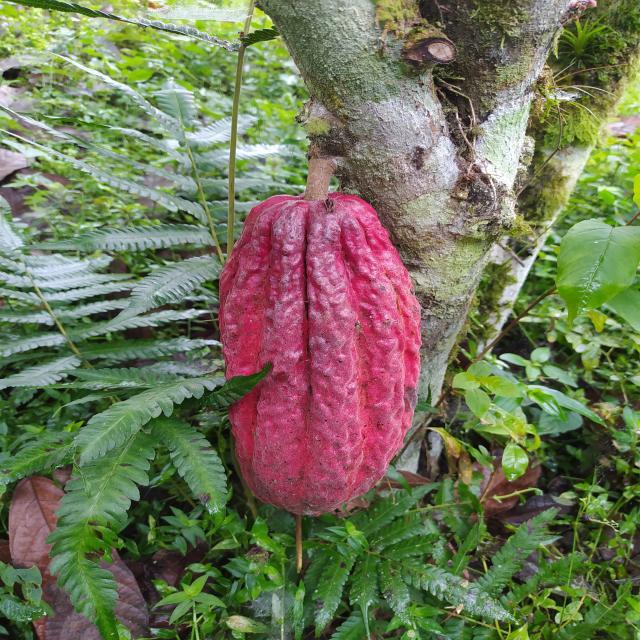Sana: (216, 192, 423, 516)
